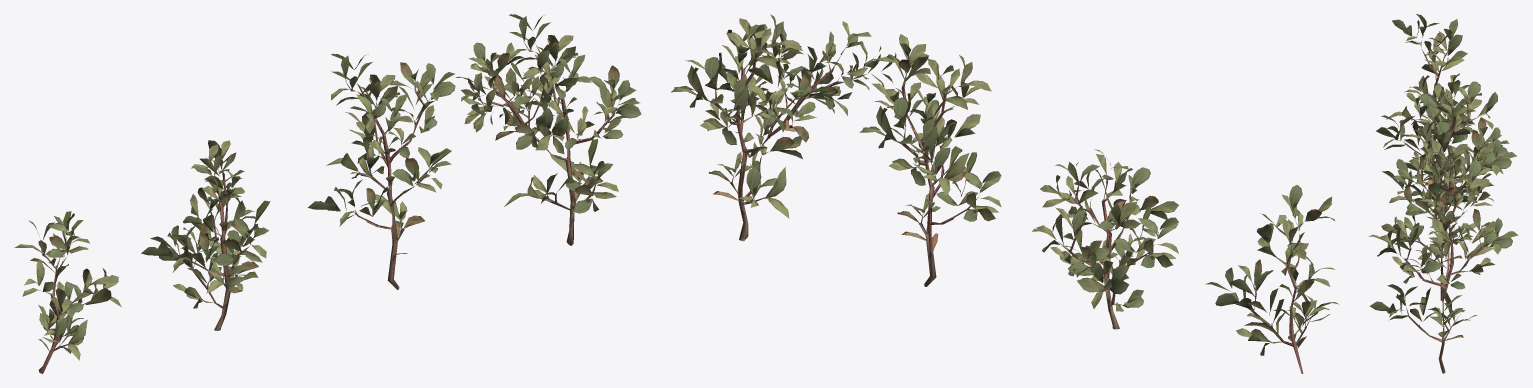
Rendered from shrub_04.glb.
3 views of the same model, side by side, from view 1: azimuth 30°, elevation 25°; view 2: azimuth 150°, elevation 25°; view 3: azimuth 270°, elevation 25° (orthographic). The views are drawn at different scales.
Parts seen in each view (by area): view 1: shrub_04; view 2: shrub_04; view 3: shrub_04.
Boxes of the visible parts, x1,y1,x2,y2 form: shrub_04: (14, 14, 641, 373); shrub_04: (671, 14, 1338, 373); shrub_04: (1368, 14, 1518, 373).
Size of the model in its own units: 0.5837 by 0.2192 by 0.1461.
1 material, 1 textured.
